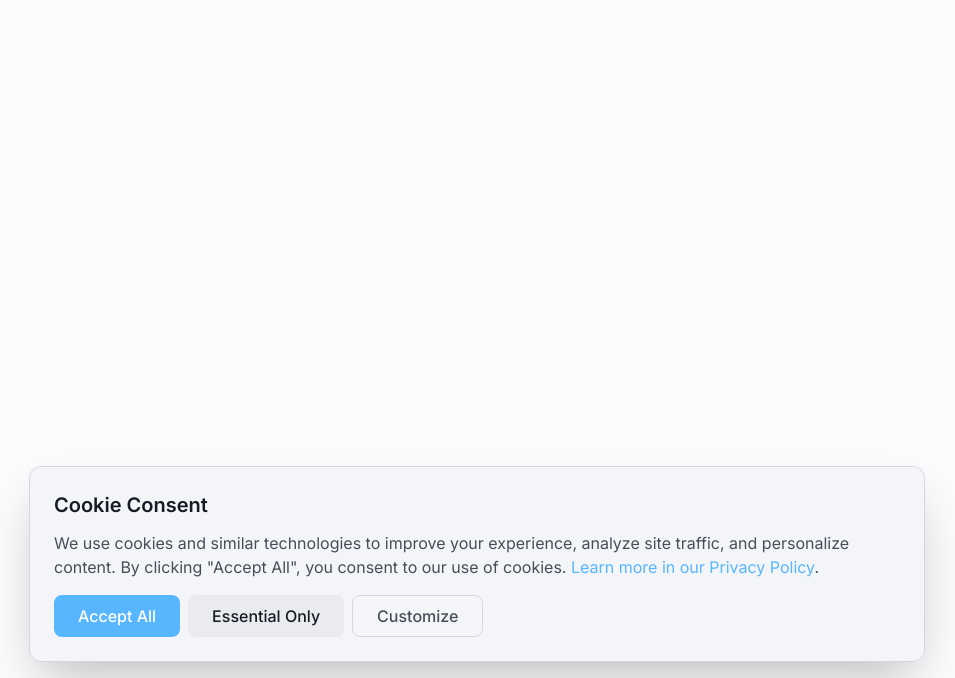
Test: CookieConsent › detailed view › returns to simple view when Back is clicked
Click the button "Customize": (418, 616) [352,595,483,637]
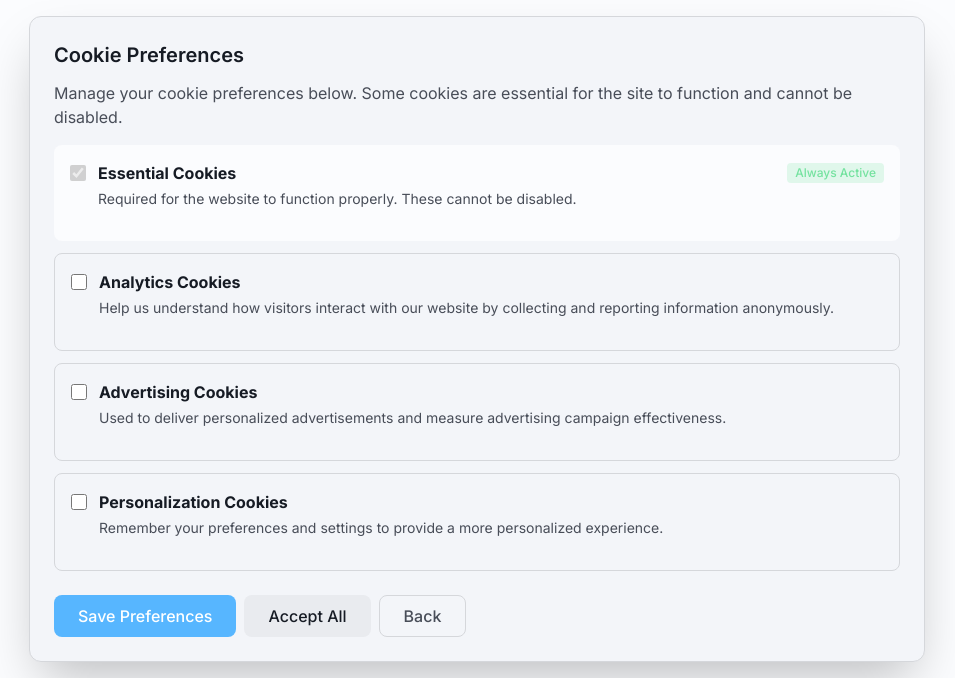
Expected: the heading "Cookie Preferences" is shown, [54,43,244,67]
Click the button "Back": (422, 616) [379,595,466,637]
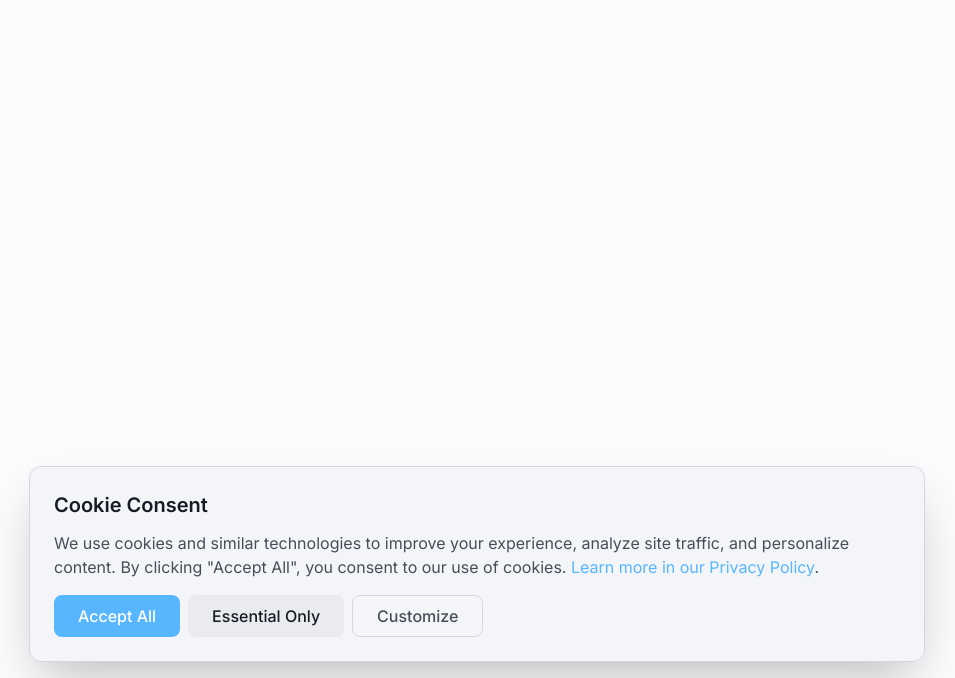
Expected: the heading "Cookie Consent" is shown, [54,493,208,517]
